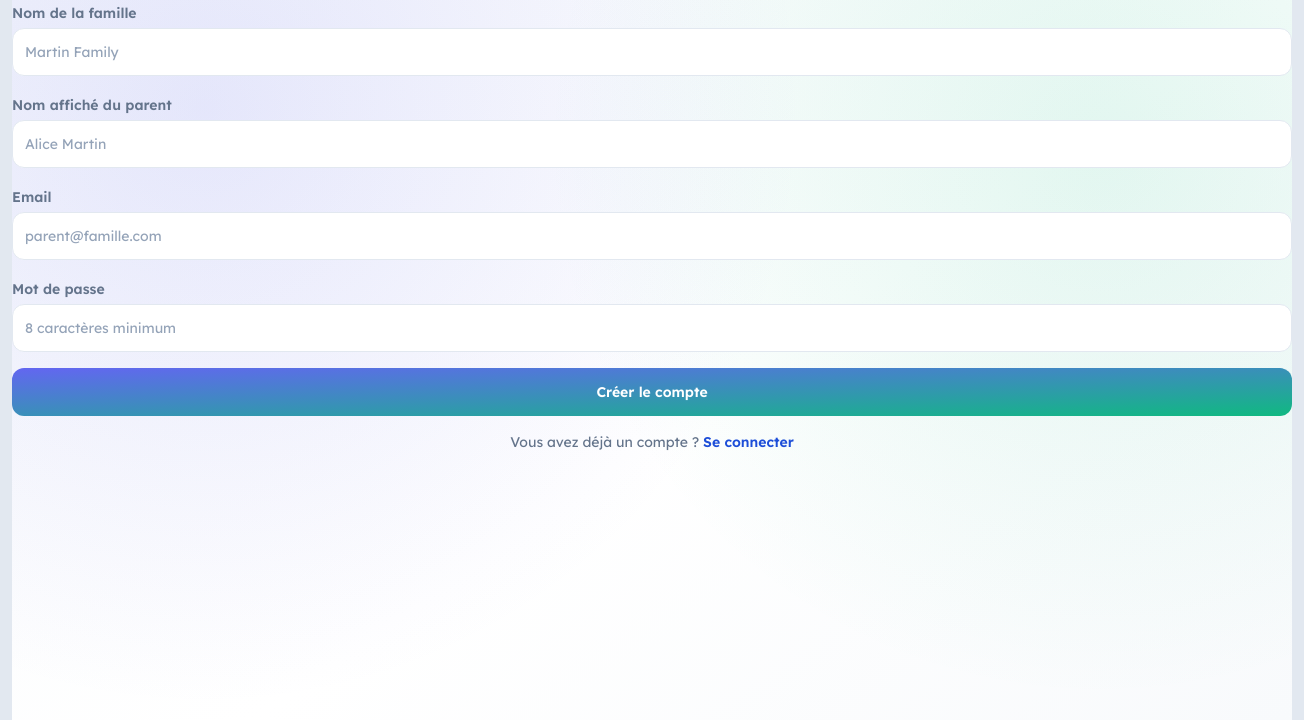
Auth form validation › shows validation errors on empty register submit
This screenshot has width=1304, height=720.
What coordinates should you click on to do the following:
click the button "Créer le compte"
I would click on:
 (652, 392)
Its box is [12,368,1292,416].
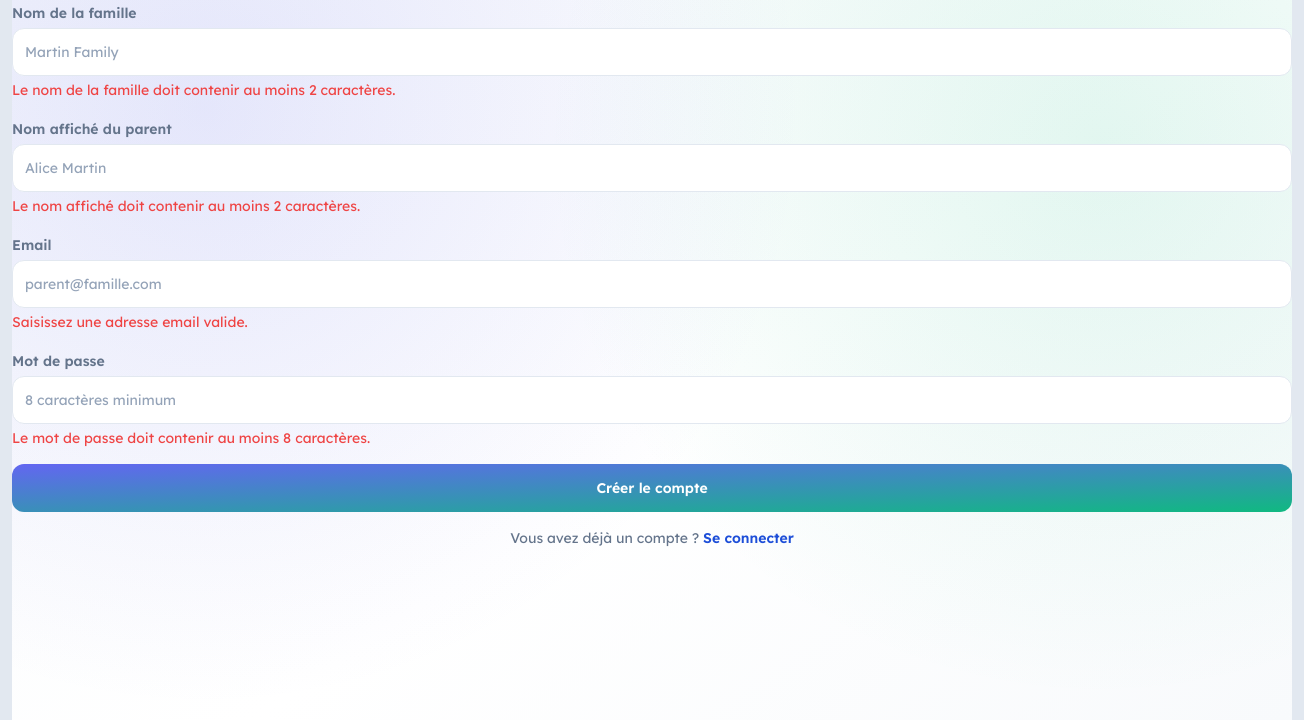
Check: the text "Le nom de la famille doit contenir au moins 2 caractères." is shown, box [12,81,396,99]
Check: the text "Le nom affiché doit contenir au moins 2 caractères." is shown, box [12,197,360,215]
Check: the text "Saisissez une adresse email valide." is shown, box [12,313,248,331]
